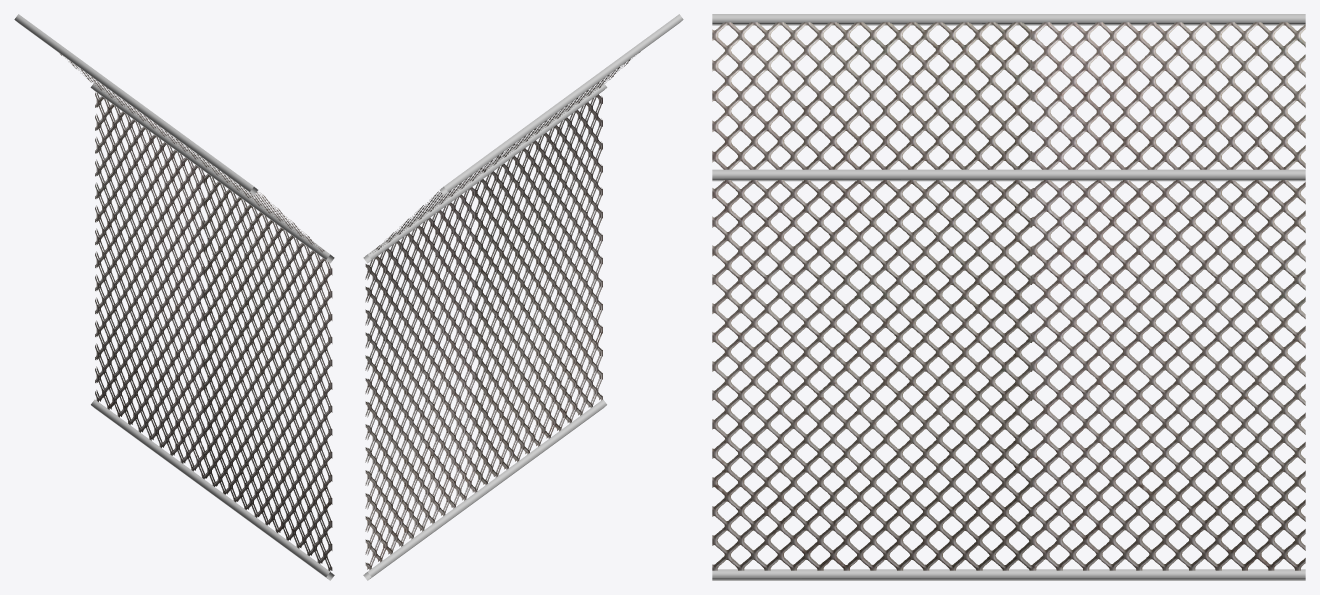
The model's file is Fence_05.fbx.
3 renders of one model, left to right at view 1: azimuth 30°, elevation 25°; view 2: azimuth 150°, elevation 25°; view 3: azimuth 270°, elevation 25°, orthographic. The views are drawn at different scales.
Parts seen in each view (by area): view 1: Fence_04, Fence_05; view 2: Fence_04, Fence_05; view 3: Fence_04, Fence_05.
Part boxes in pixels (left/top/right/bottom): Fence_04: left=59, top=53, right=332, bottom=571; Fence_05: left=14, top=14, right=334, bottom=580; Fence_04: left=365, top=52, right=639, bottom=569; Fence_05: left=363, top=14, right=683, bottom=580; Fence_04: left=712, top=22, right=1305, bottom=570; Fence_05: left=712, top=14, right=1305, bottom=580.
Size of the model in its own units: 31.2 by 145 by 150.
